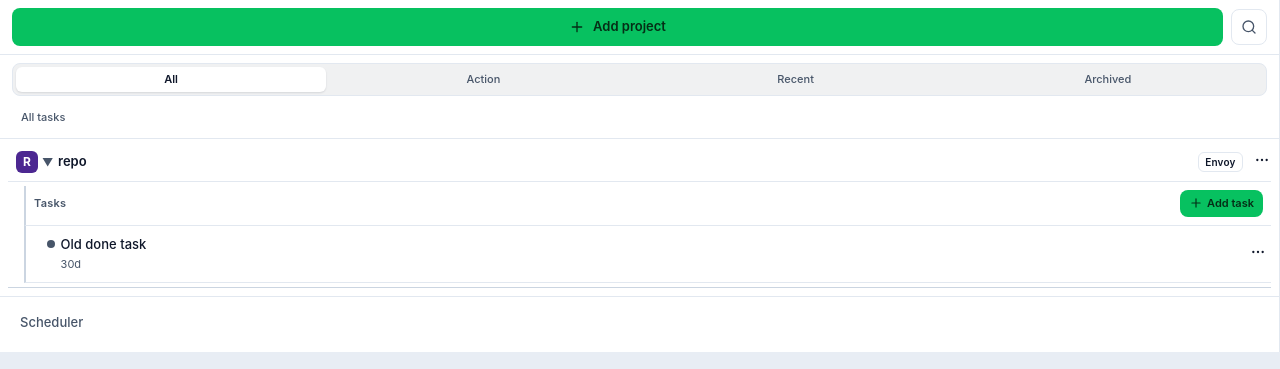
Test case: CodingSidebar history filters › hides archived from All until Archived filter
The image size is (1280, 369).
Expected: the button with test id "coding-task-old-1" is shown, [30,226,1271,282]
What coordinates should you click on to do the following:
click the tab with test id "coding-history-filter-archived"
I would click on:
 (1108, 79)
Its box is [953,66,1263,92].
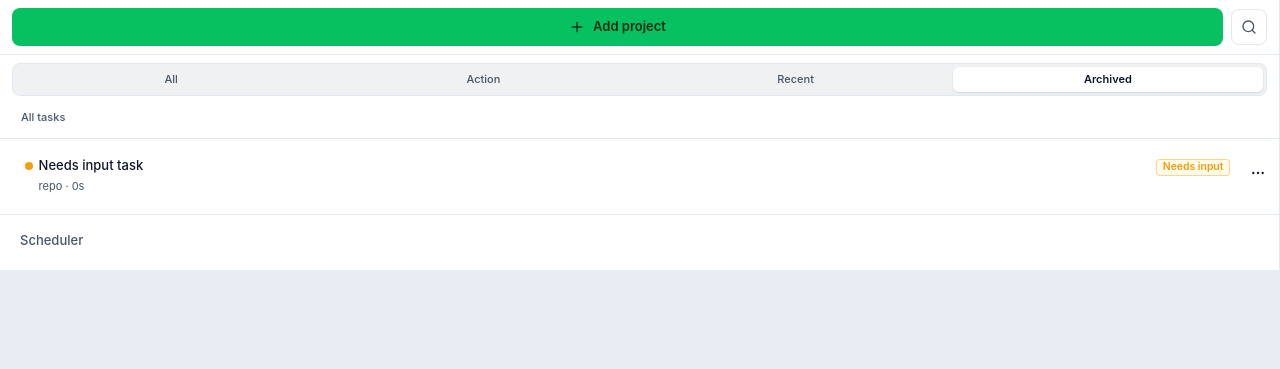
Result: the button with test id "coding-task-needs-1" is shown at [8,147,1271,204]
